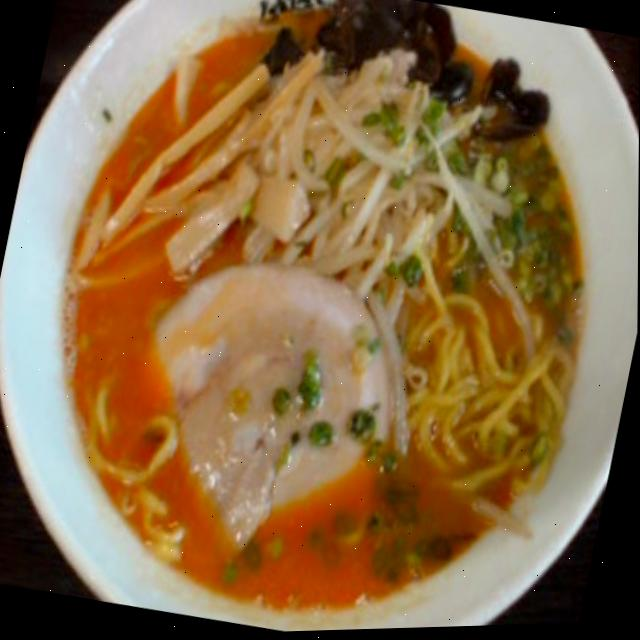面条主食: (93, 0, 640, 638)
